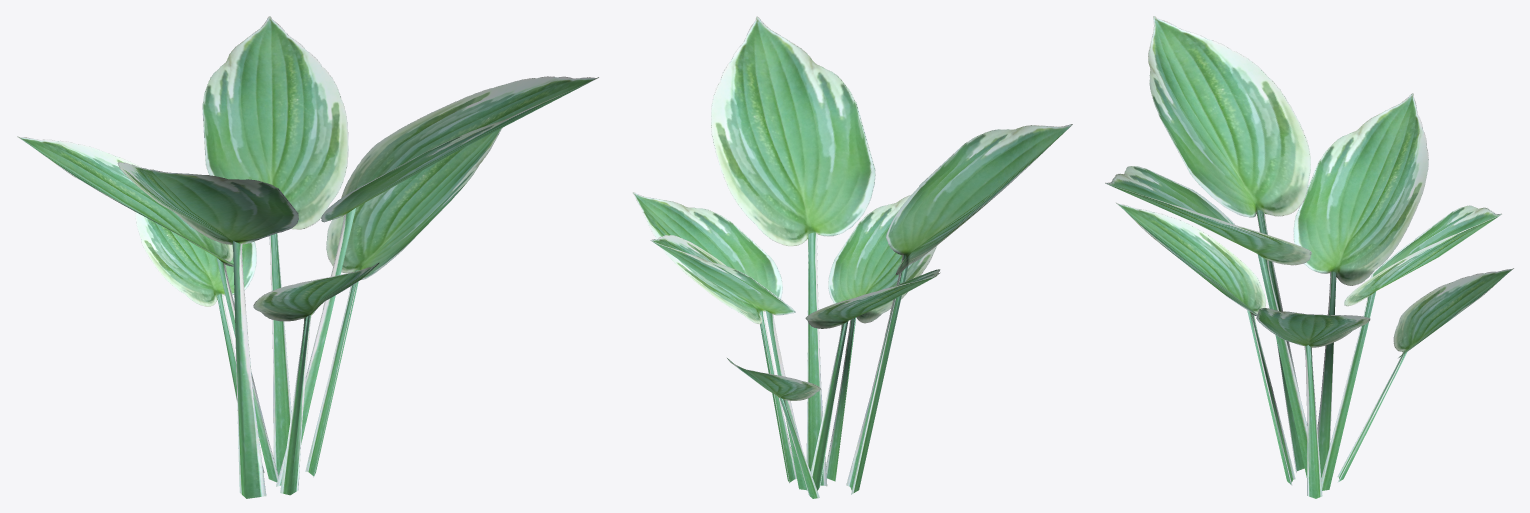
File: plant_small_wg_03V.fbx
The picture shows the model from 3 angles, left to right: view 1: azimuth 30°, elevation 25°; view 2: azimuth 150°, elevation 25°; view 3: azimuth 270°, elevation 25°; orthographic projection. The views are drawn at different scales.
Parts seen in each view (by area): view 1: plant_small_wg_03V; view 2: plant_small_wg_03V; view 3: plant_small_wg_03V.
Part boxes in pixels (<box>): plant_small_wg_03V: <box>17,16,598,498</box>; plant_small_wg_03V: <box>632,16,1072,498</box>; plant_small_wg_03V: <box>1105,16,1513,498</box>.
Bounding box in the file's own units: 43.62 × 40.91 × 39.77.
